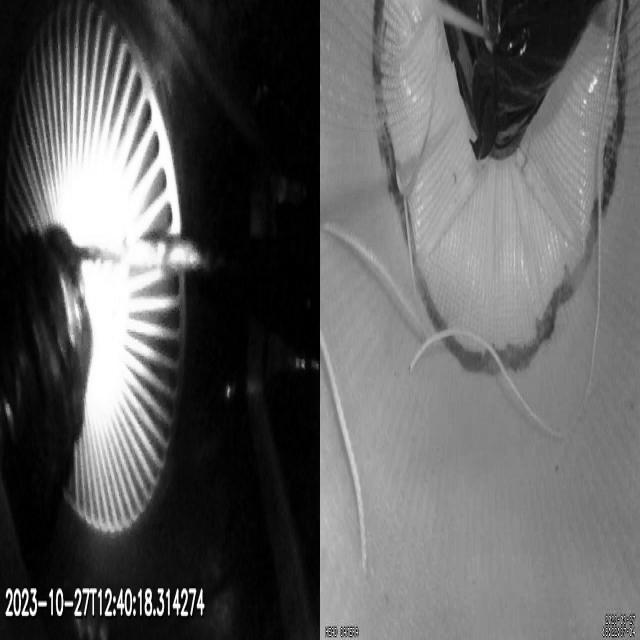red-circle: (370, 0, 630, 376)
